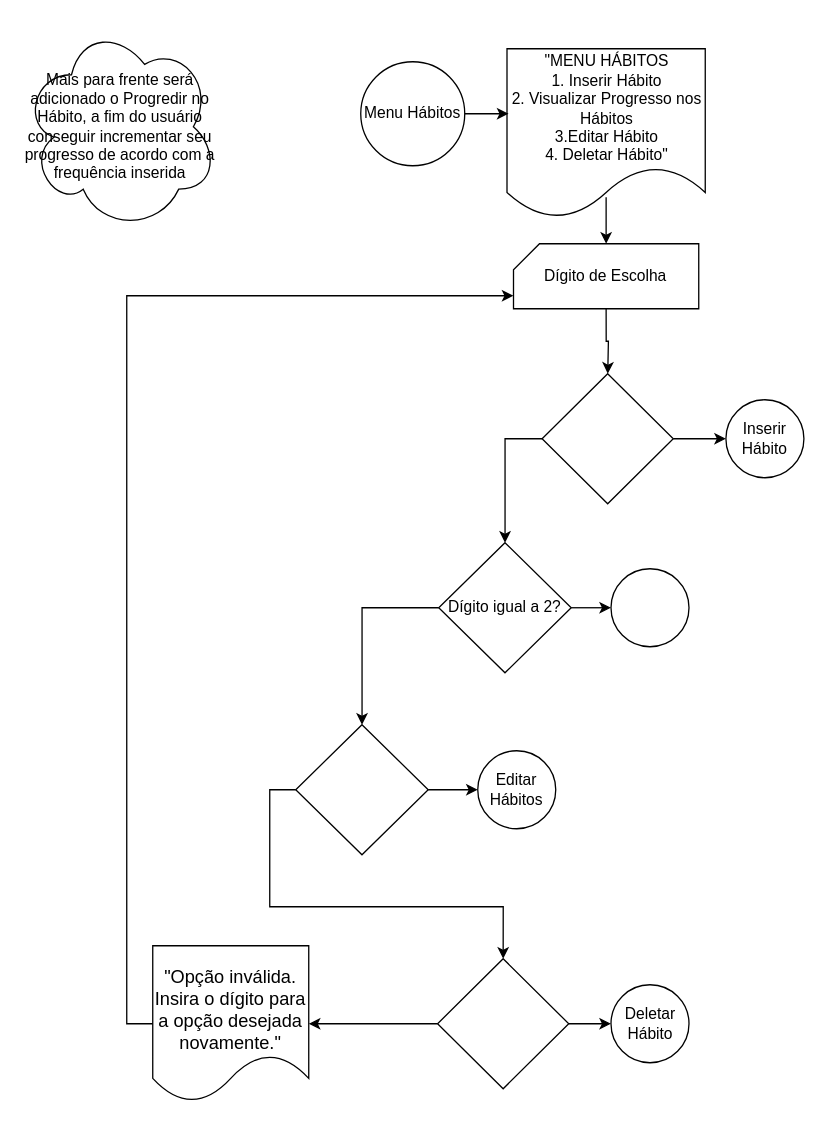
Some shapes in this 827 by 1125 pixel diagram are drawn without their labels. The shapes that lost their labels are listed below. From the top down, each one's box as (x1, y1, x2, y2) in pixels, then its label:
(541, 372, 673, 504): Dígito igual a 1?
(610, 567, 689, 647): Visualizar Progresso nos Hábitos
(294, 723, 428, 855): Dígito igual a 3?
(436, 957, 569, 1089): Dígito igual a 4?
